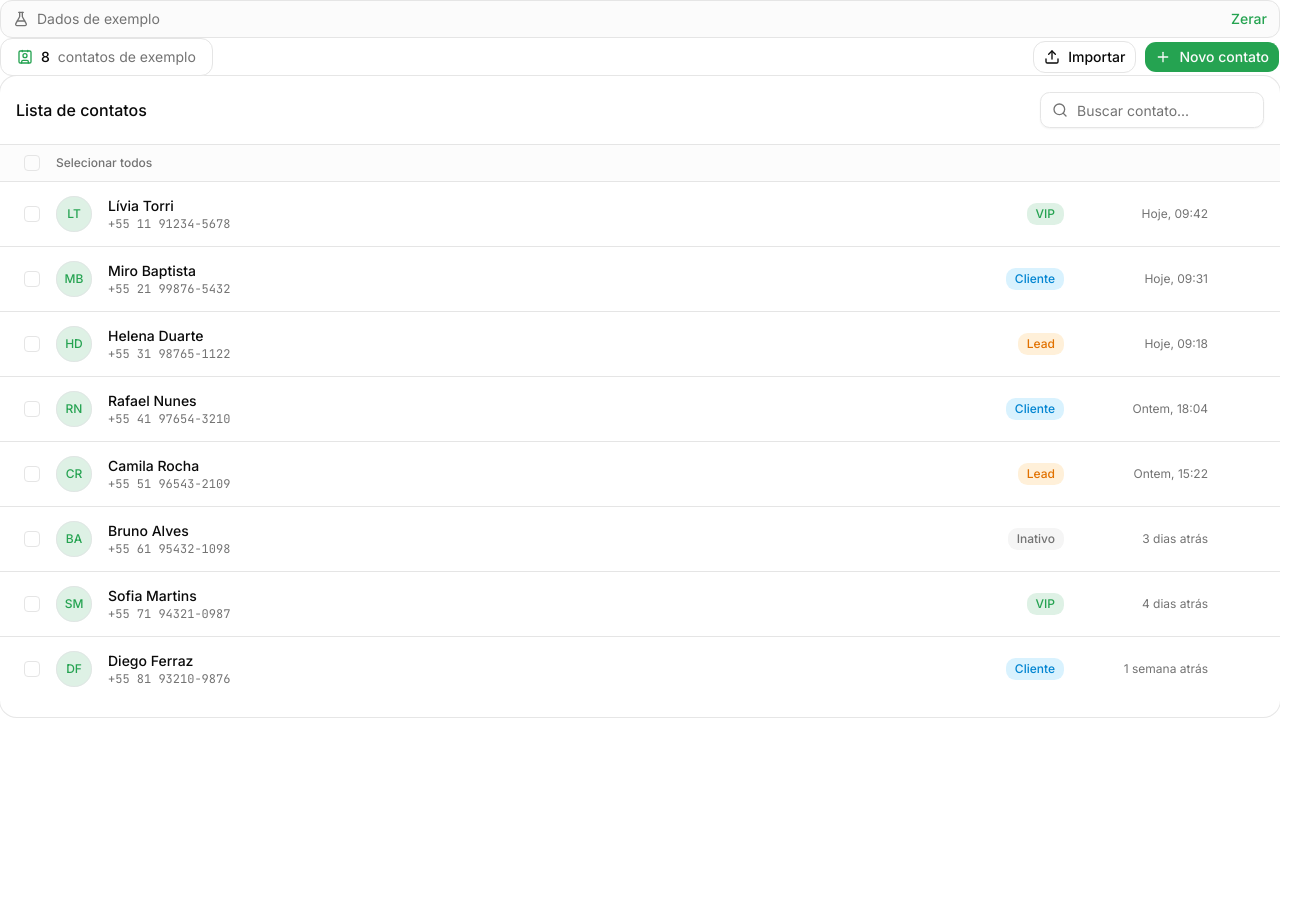
Scenario: Contatos › lista e filtra os contatos de exemplo
Expected: the text "Sofia Martins" is shown, [108,587,197,604]
Type "Bruno" into the field labelled "Buscar contato" at (1152, 110), box [1040,92,1264,128]
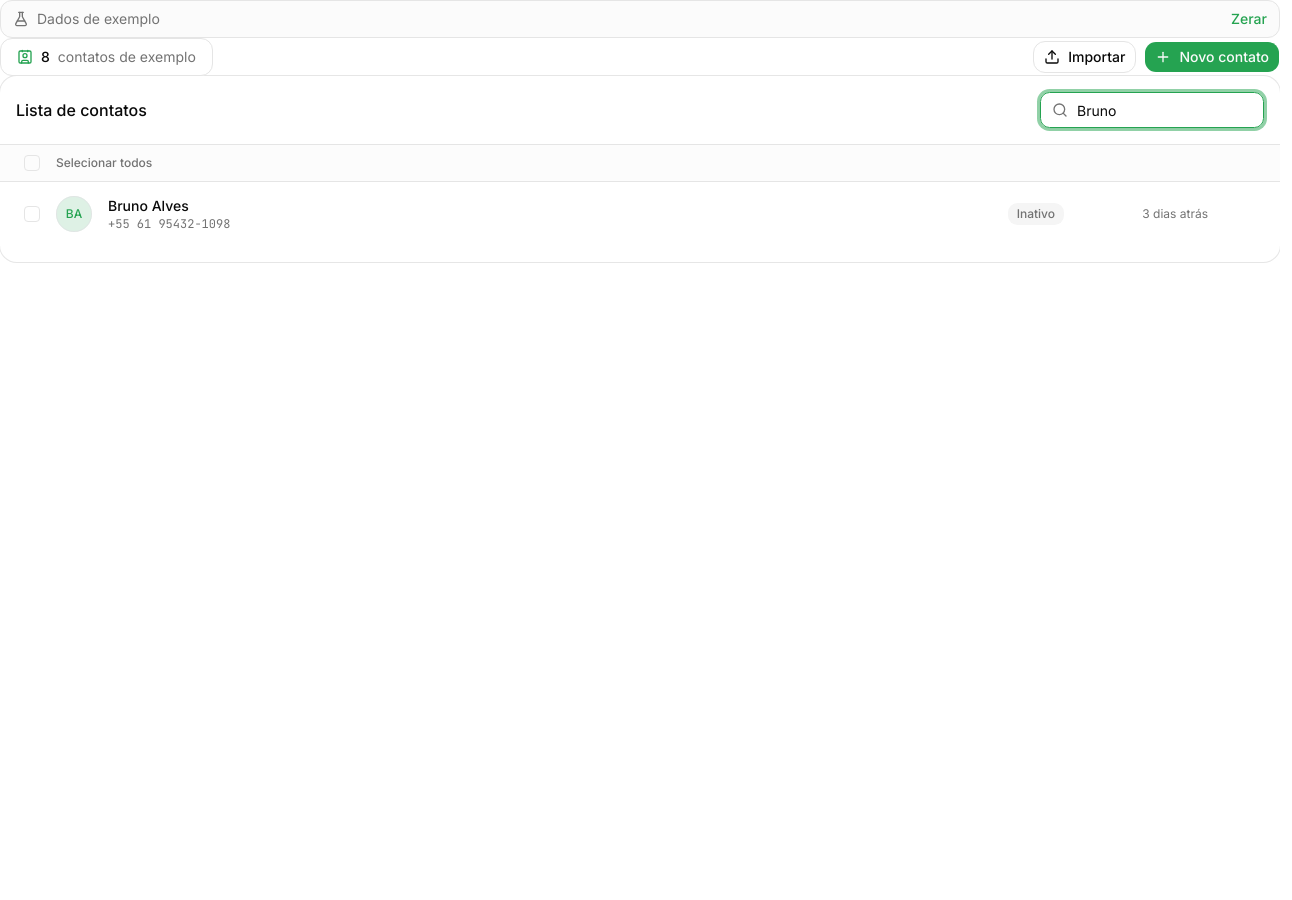
Expected: the text "Bruno Alves" is shown, [108,197,189,214]
Expected: the text "Sofia Martins" is gone
